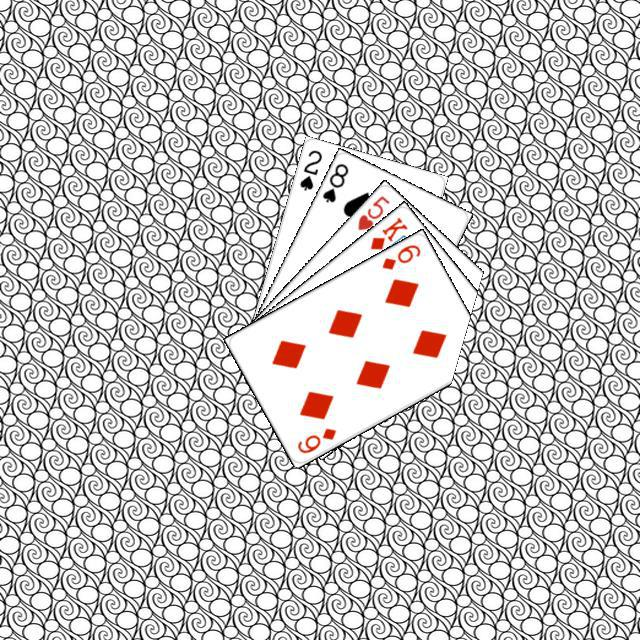2s: (295, 145, 324, 192)
5h: (353, 191, 391, 232)
6d: (377, 239, 422, 272), (292, 423, 338, 455)
8s: (317, 158, 350, 204)
Kd: (365, 212, 409, 252)
